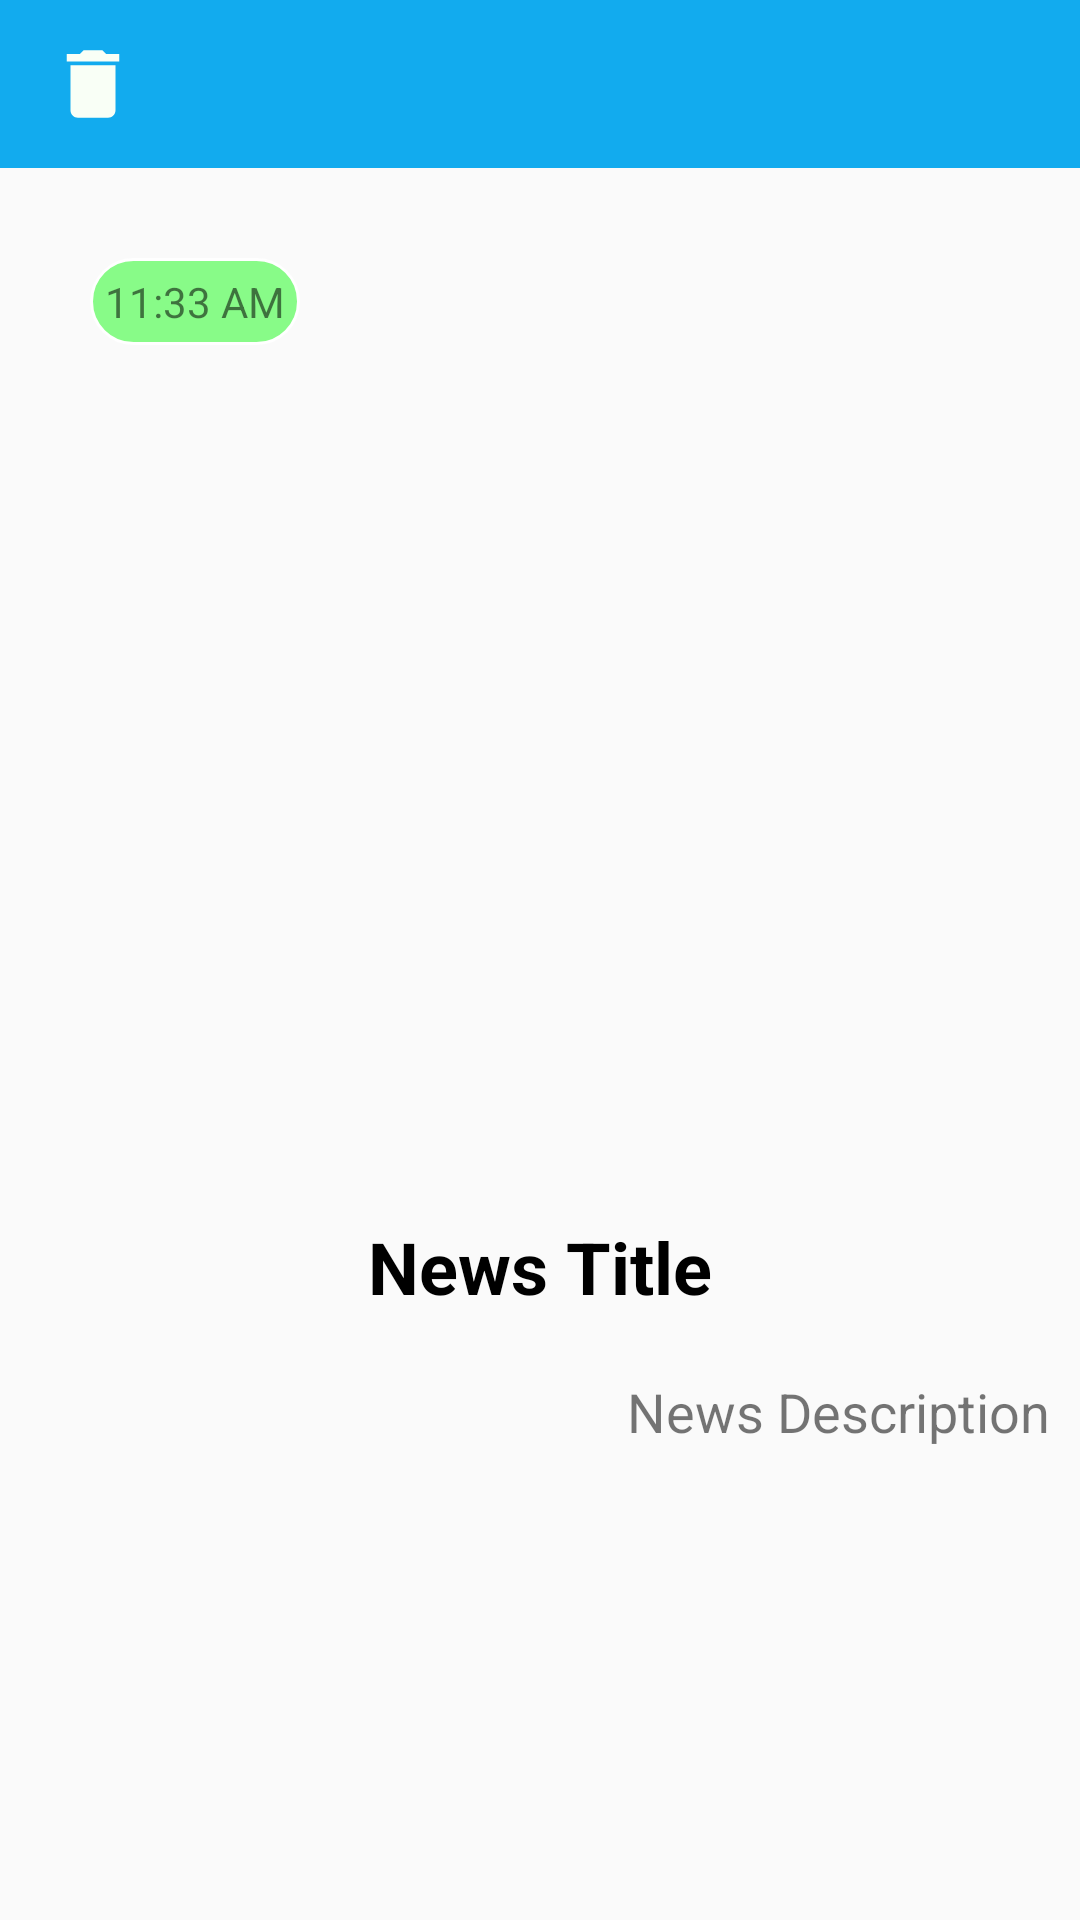

Point at icon controls on the screen. Image size 1080 x 1920, points as point (x, y).
delete: point (93, 84)
